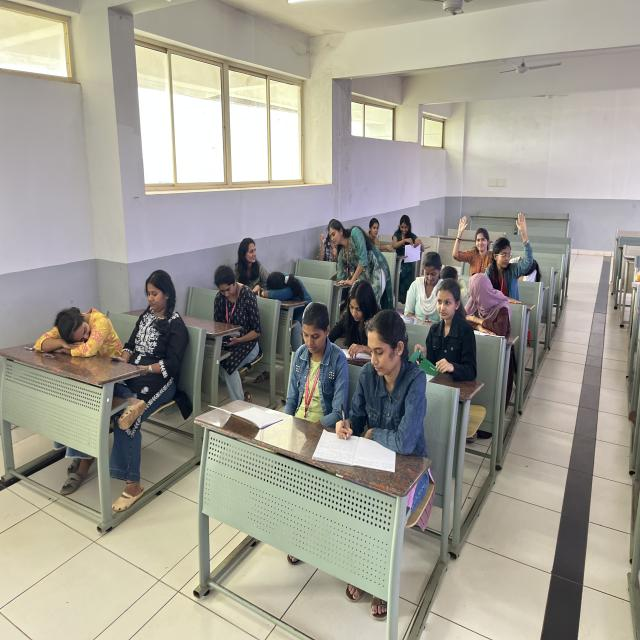Hand Rising: (486, 204, 546, 297), (452, 188, 495, 276)
Reading: (336, 272, 374, 366)
Sleeping: (22, 253, 128, 403), (258, 234, 324, 333)
Using Phone: (99, 243, 192, 422), (198, 260, 264, 376), (406, 242, 445, 328)
Writing: (328, 314, 433, 490)
